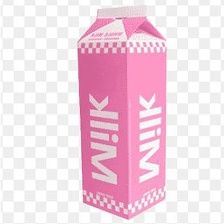carton: (74, 1, 171, 221)
